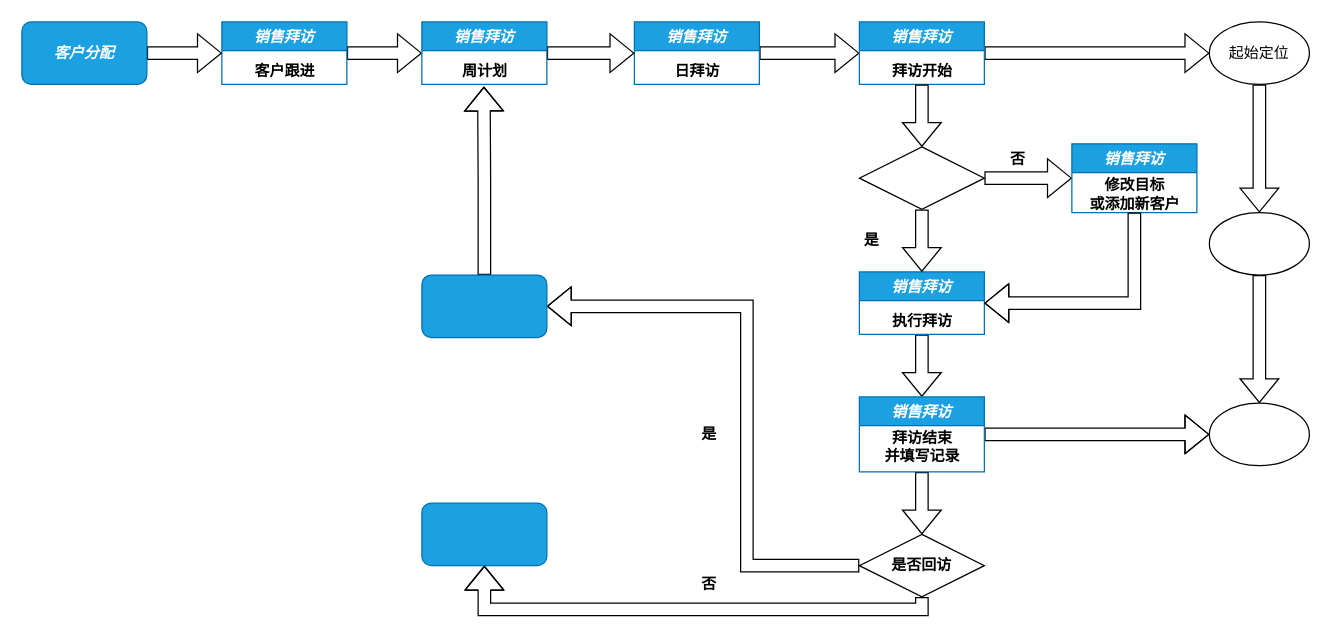
Image size: 1331x638. Some labels were removed from this diagram. Here are the shapes that lost their labels. From the top down, the centre of each, then its label:
At point (921, 177): "是否按照原计划".
At point (1258, 243): "定位轨迹".
At point (484, 306): "设定回访时间".
At point (1258, 434): "结束定位".
At point (484, 534): "客户关闭".
